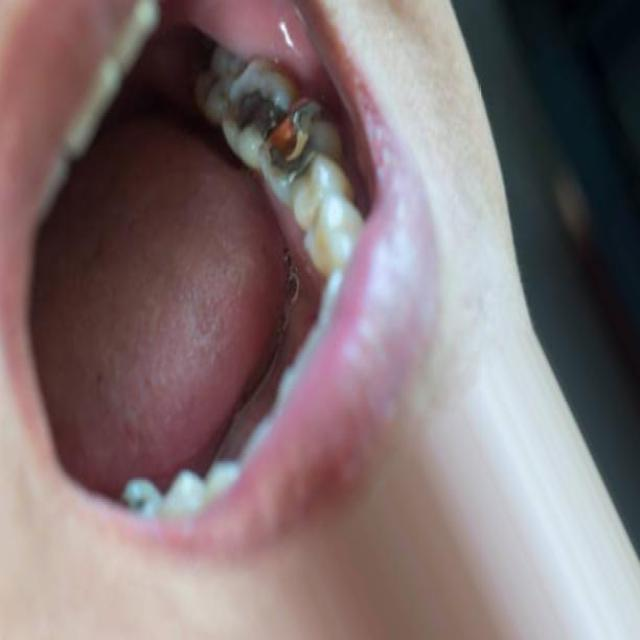caries: (260, 93, 324, 180), (228, 77, 278, 143)
